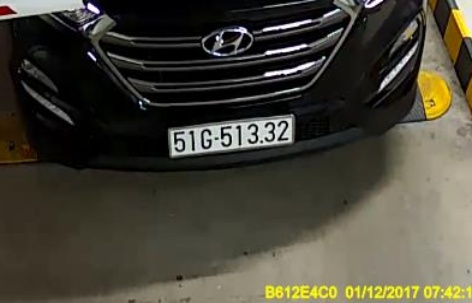plate: (166, 113, 293, 160)
